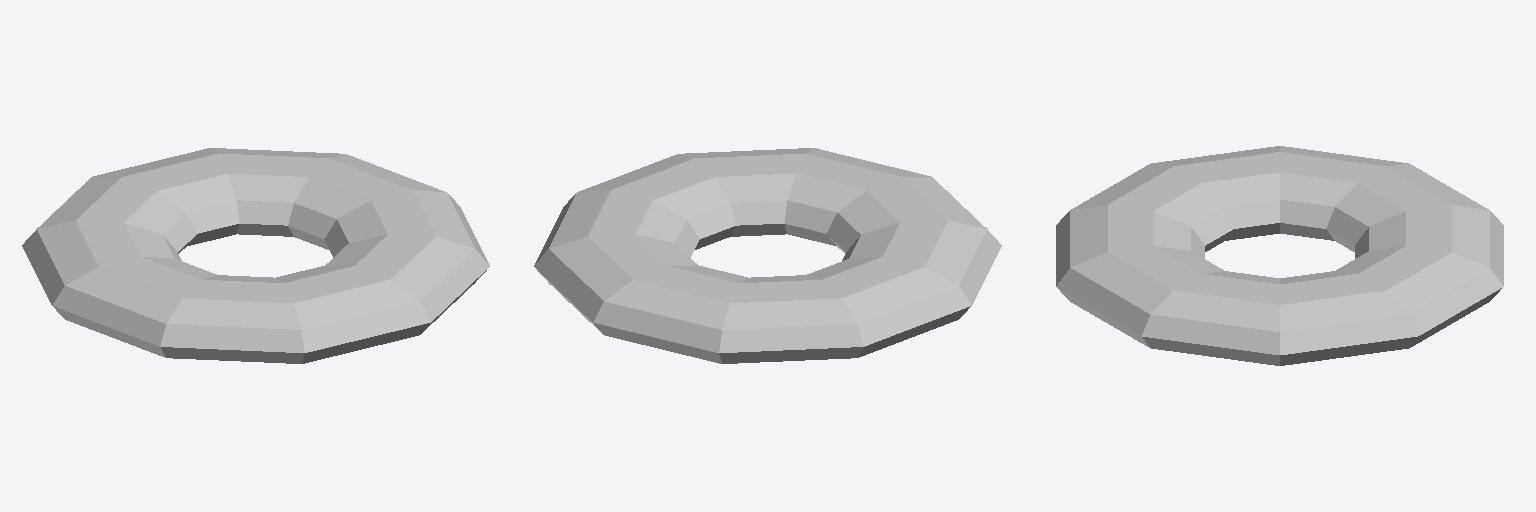
File: jump pad.obj
The picture shows the model from 3 angles: view 1: azimuth 30°, elevation 25°; view 2: azimuth 150°, elevation 25°; view 3: azimuth 270°, elevation 25°; orthographic projection.
Parts seen in each view (by area): view 1: pTorus1; view 2: pTorus1; view 3: pTorus1.
Part boxes in pixels (x1,y1,x2,y2): pTorus1: (22, 148, 489, 363); pTorus1: (534, 148, 1001, 363); pTorus1: (1056, 146, 1503, 365).
Bounding box in the file's own units: 3 × 0.3875 × 2.85.